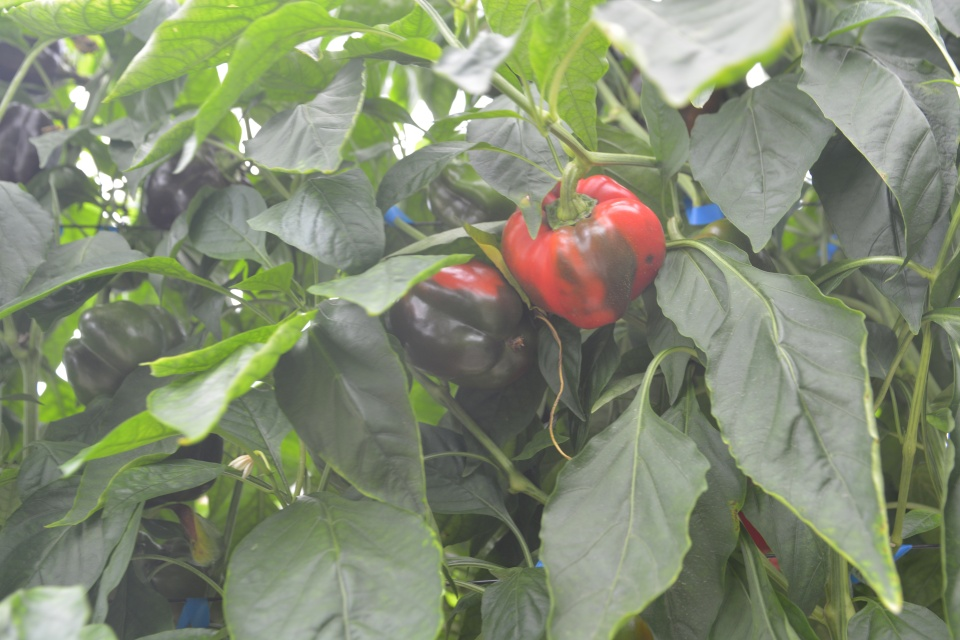flower: (226, 452, 256, 481)
fruit: (499, 172, 665, 328), (388, 260, 538, 392), (61, 299, 184, 404), (146, 146, 226, 229), (427, 155, 515, 228), (0, 101, 55, 183), (0, 32, 71, 86)
pedicle: (544, 191, 598, 229)
